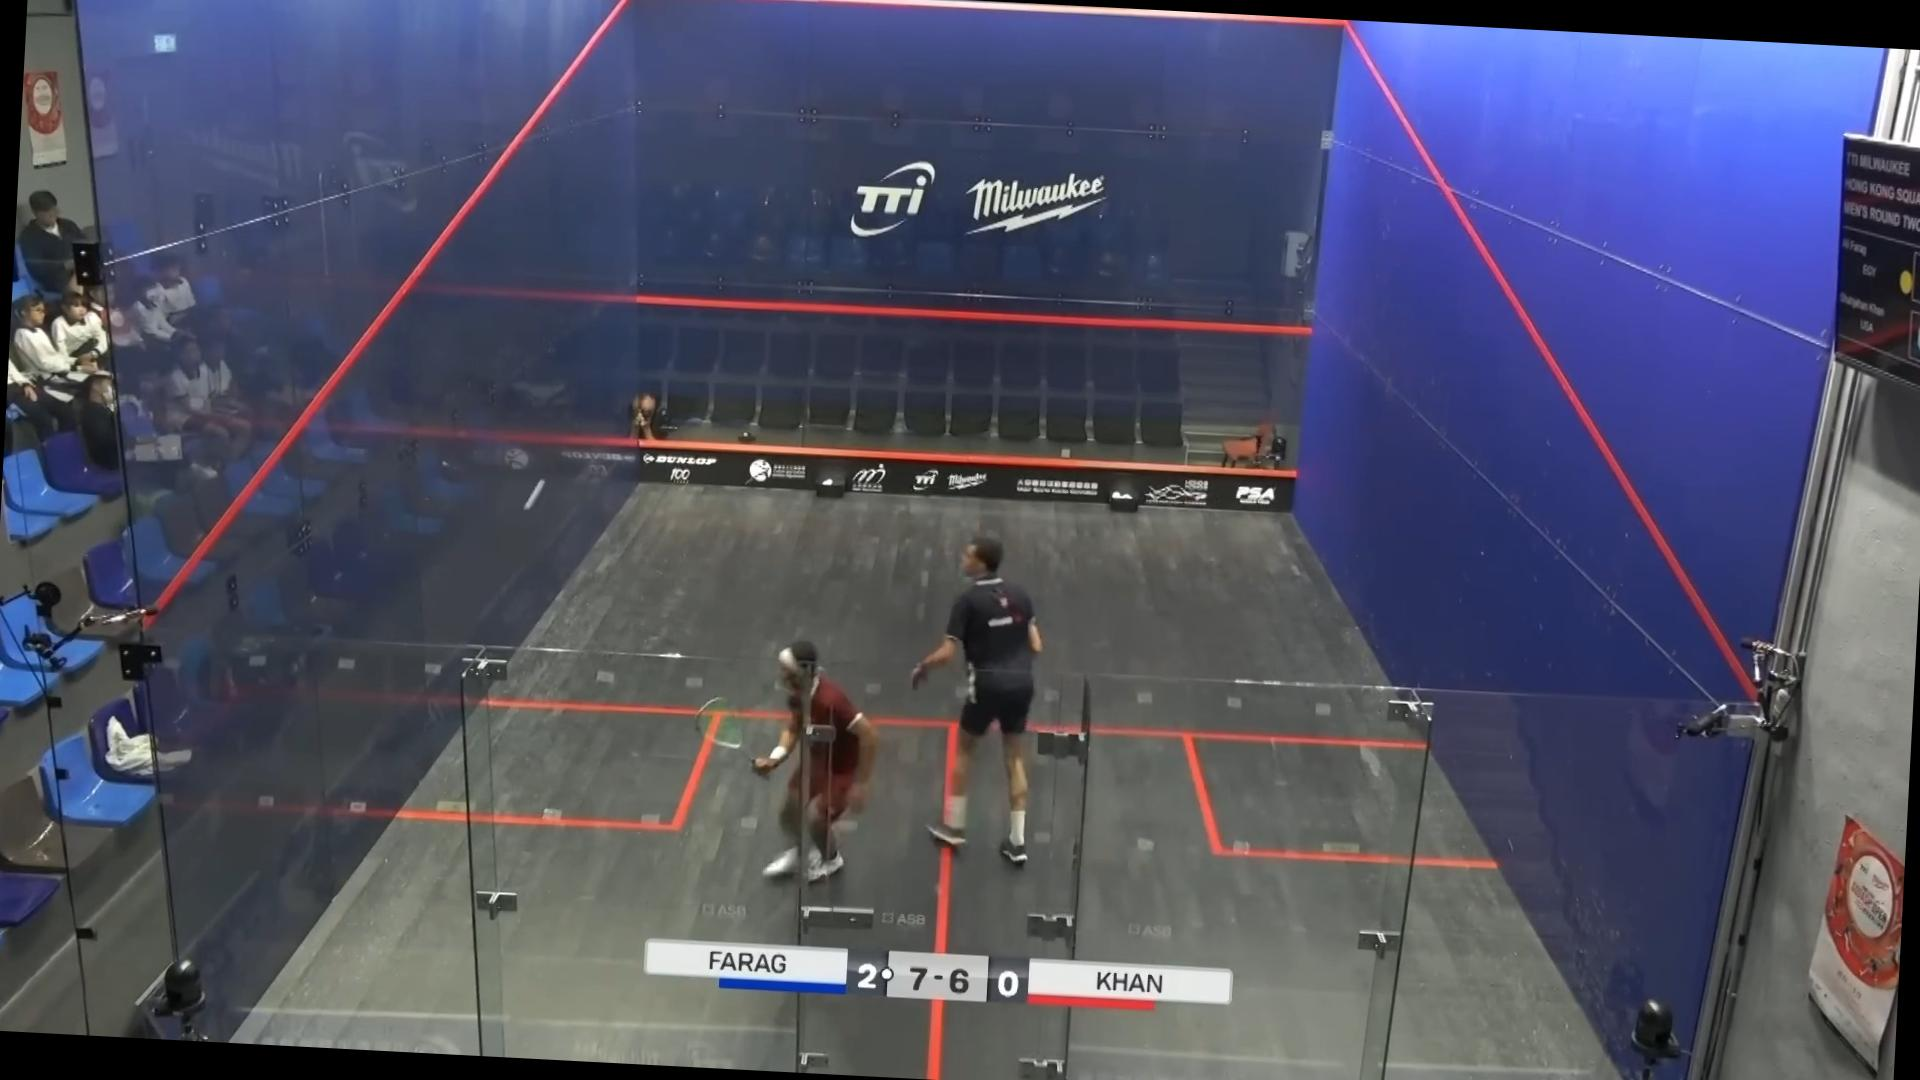Racket: (690, 690, 760, 760)
